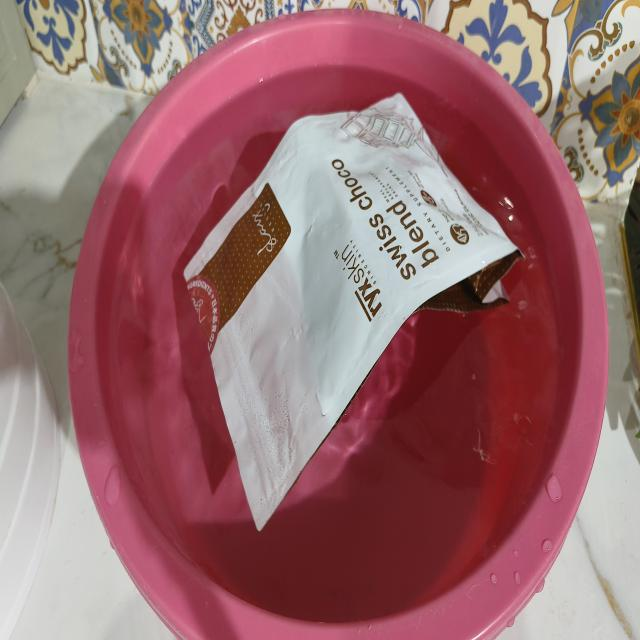Plastic Pouch: (184, 94, 518, 530)
